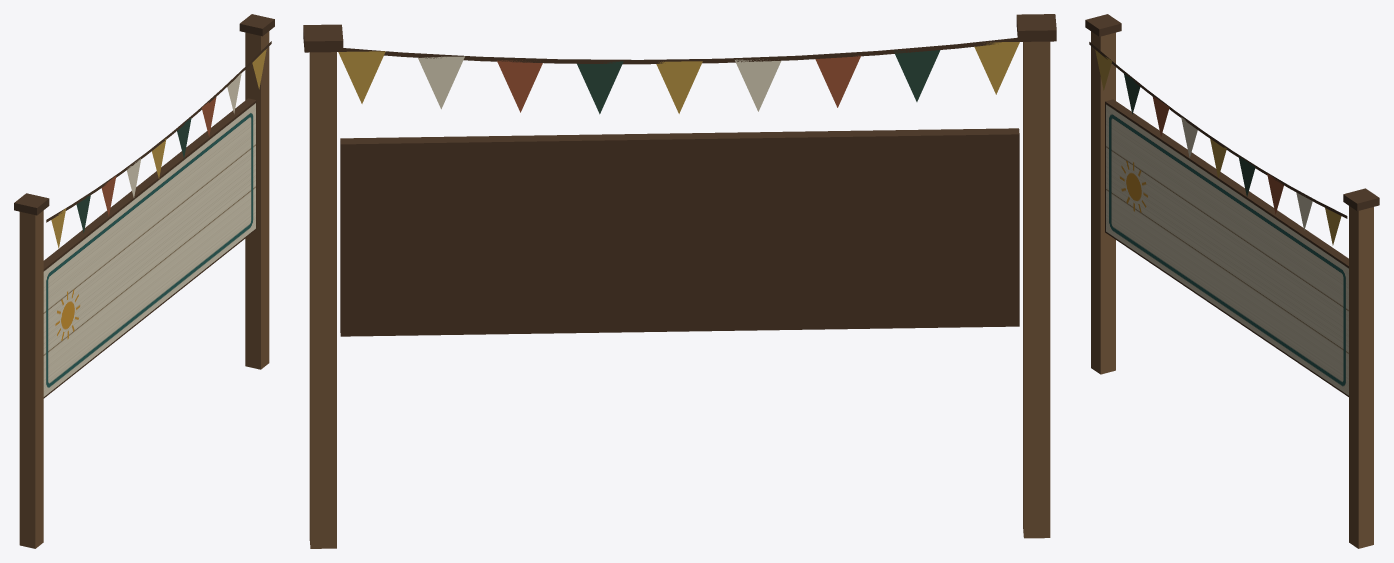
The model's file is lwf_gate_sign_tier2_v1.glb.
3 renders of one model, left to right at view 1: azimuth 30°, elevation 25°; view 2: azimuth 150°, elevation 25°; view 3: azimuth 270°, elevation 25°, orthographic. The views are drawn at different scales.
Parts seen in each view (by area): view 1: GateSignTier2_Board, GateSignTier2, Pennants; view 2: GateSignTier2, Pennants; view 3: GateSignTier2_Board, GateSignTier2, Pennants.
Part boxes in pixels (<box>): GateSignTier2_Board: <box>43,103,255,396</box>; GateSignTier2: <box>14,14,274,548</box>; Pennants: <box>46,41,271,248</box>; GateSignTier2: <box>303,14,1056,548</box>; Pennants: <box>338,37,1019,114</box>; GateSignTier2_Board: <box>1106,104,1348,395</box>; GateSignTier2: <box>1085,14,1379,548</box>; Pennants: <box>1089,42,1347,245</box>.
Size of the model in its own units: 3.23 by 2.76 by 2.12.
2 materials, 2 textured.
